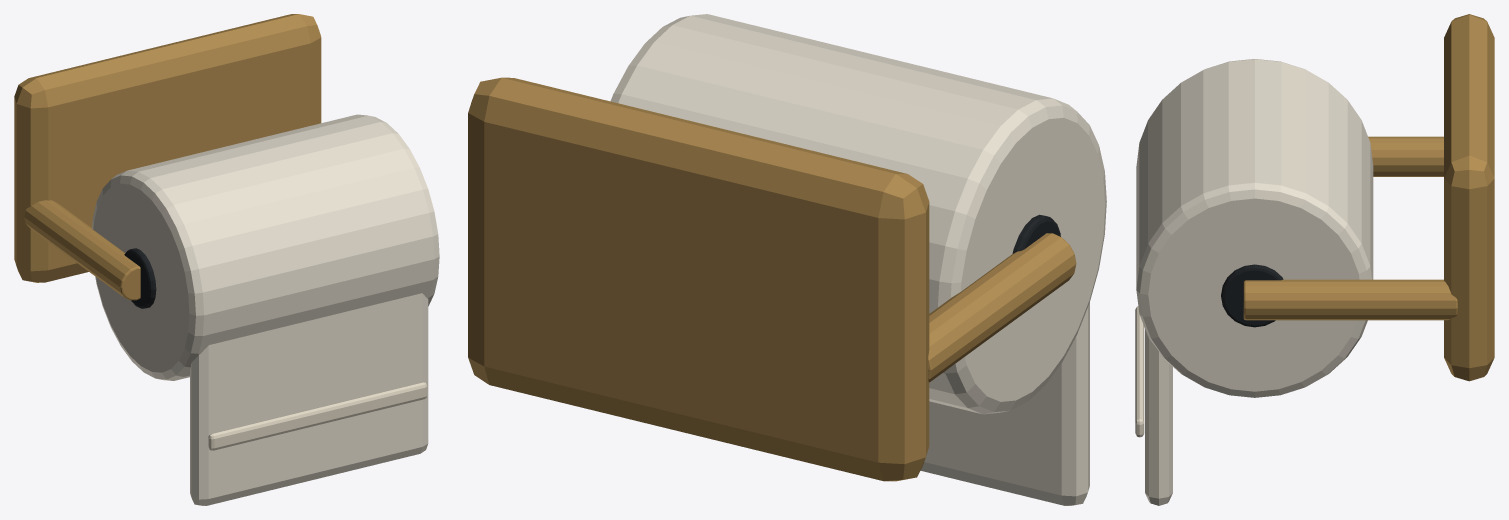
Rendered from bath_toilet_paper.glb.
3 renders of one model, left to right at view 1: azimuth 30°, elevation 25°; view 2: azimuth 150°, elevation 25°; view 3: azimuth 270°, elevation 25°, orthographic. The views are drawn at different scales.
Parts seen in each view (by area): view 1: bath_toilet_paper; view 2: bath_toilet_paper; view 3: bath_toilet_paper.
Part boxes in pixels (x1,y1,x2,y2): bath_toilet_paper: [14, 14, 439, 505]; bath_toilet_paper: [468, 14, 1106, 505]; bath_toilet_paper: [1135, 14, 1494, 505].
Size of the model in its own units: 0.34 by 0.355 by 0.3185.
